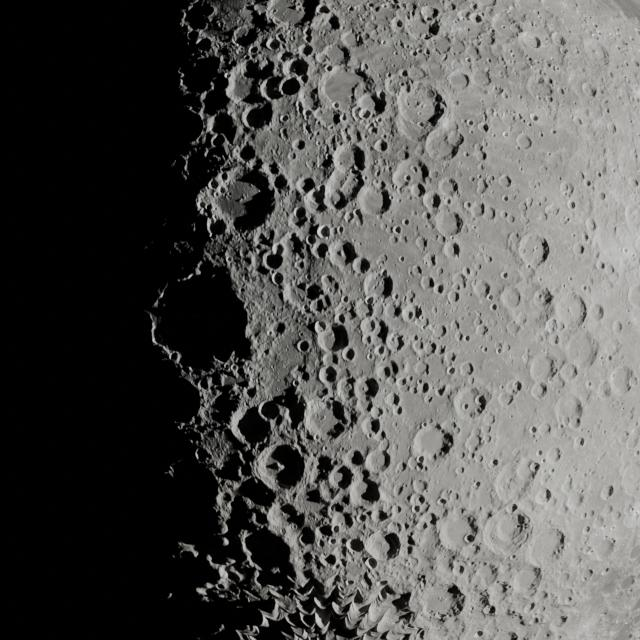crater: (145, 269, 257, 382), (208, 168, 281, 239), (324, 146, 374, 212), (232, 396, 282, 447), (256, 443, 308, 492), (407, 424, 459, 464), (304, 402, 353, 436), (265, 0, 316, 29), (363, 528, 406, 559), (432, 210, 466, 242), (210, 110, 238, 145), (242, 105, 273, 134), (323, 325, 350, 355), (356, 91, 386, 118), (327, 243, 356, 270), (368, 273, 396, 299), (302, 278, 326, 307), (265, 248, 287, 278), (278, 73, 302, 100), (328, 463, 350, 492), (232, 27, 260, 49), (233, 144, 262, 165), (419, 190, 445, 212), (444, 239, 465, 261), (259, 398, 281, 419), (345, 535, 367, 554), (285, 138, 311, 154), (358, 379, 375, 403), (207, 221, 228, 240), (352, 257, 372, 276), (268, 320, 289, 338), (289, 210, 309, 228), (315, 222, 334, 240), (351, 450, 367, 470), (365, 418, 381, 438), (320, 555, 340, 571), (296, 338, 310, 354)
rock: (274, 457, 288, 475), (235, 191, 249, 207), (290, 0, 307, 13)
